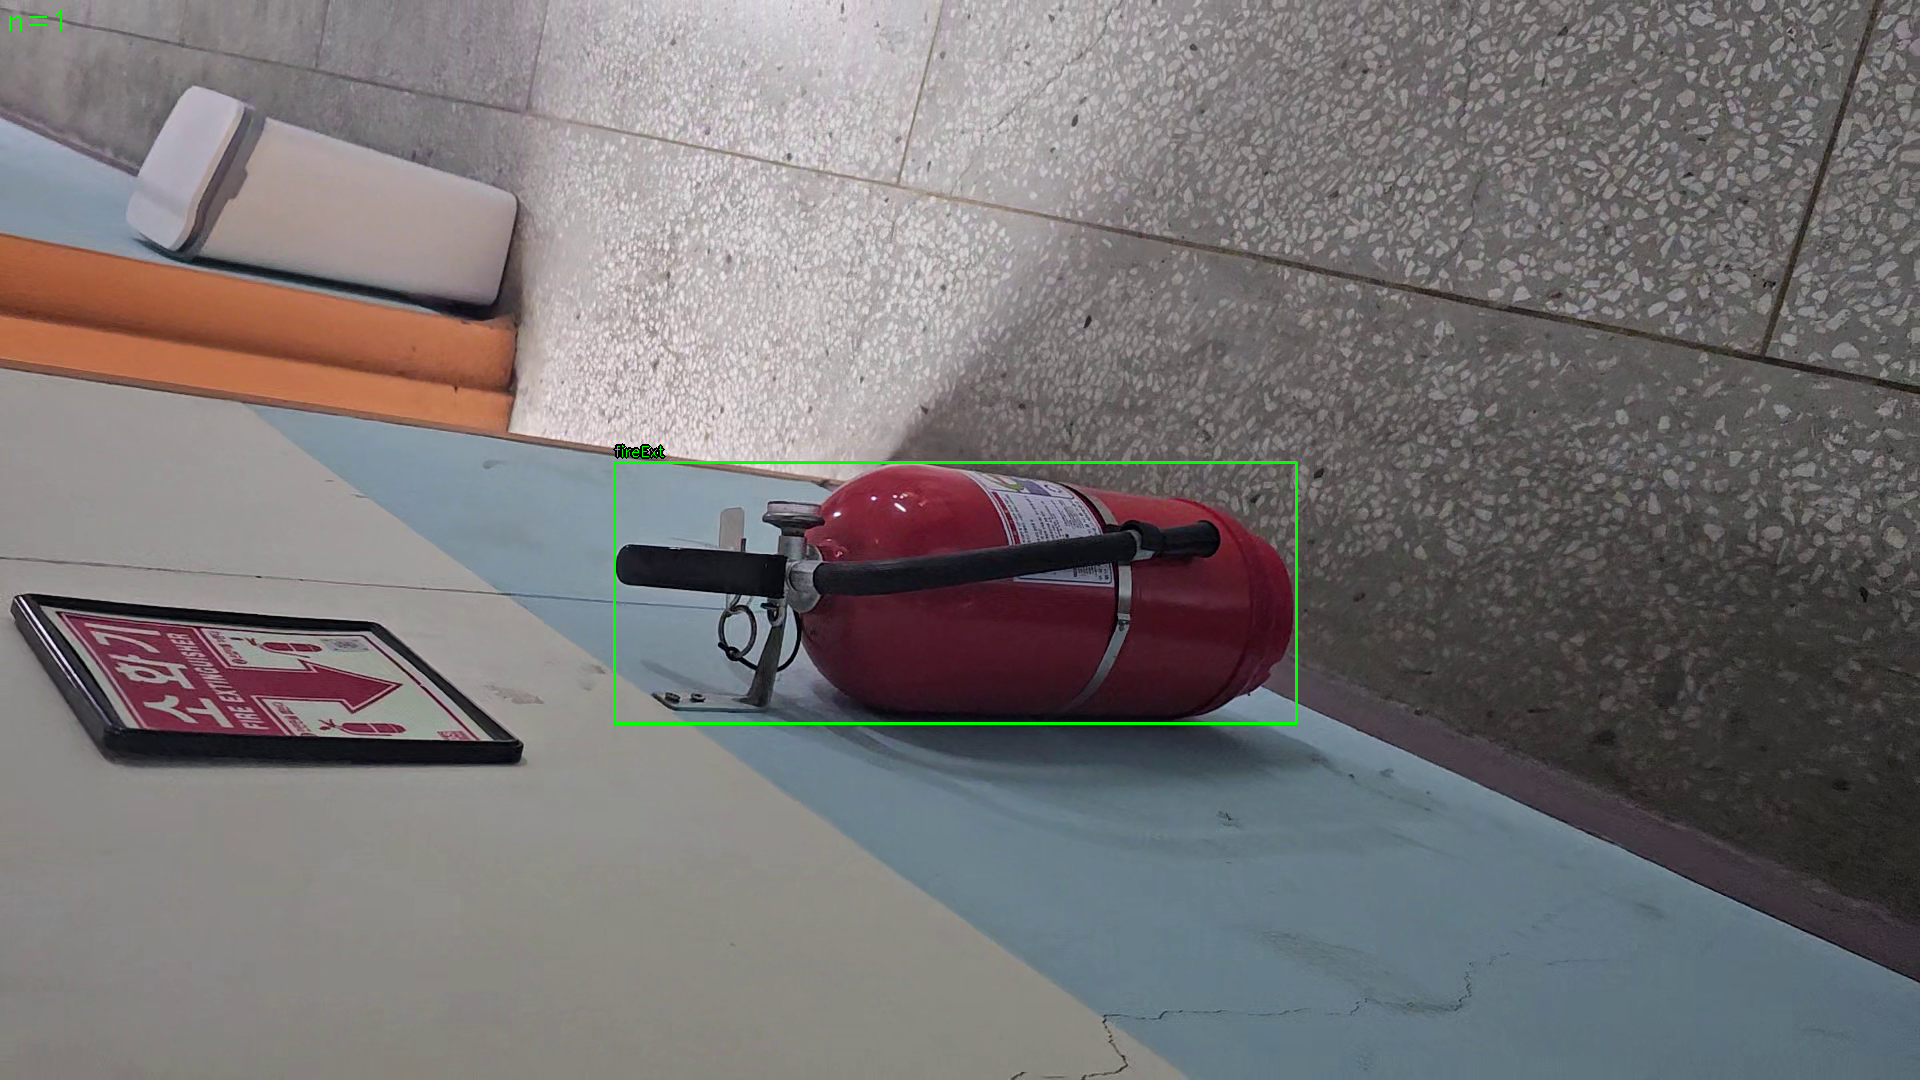lane: (615, 462, 1298, 724)
